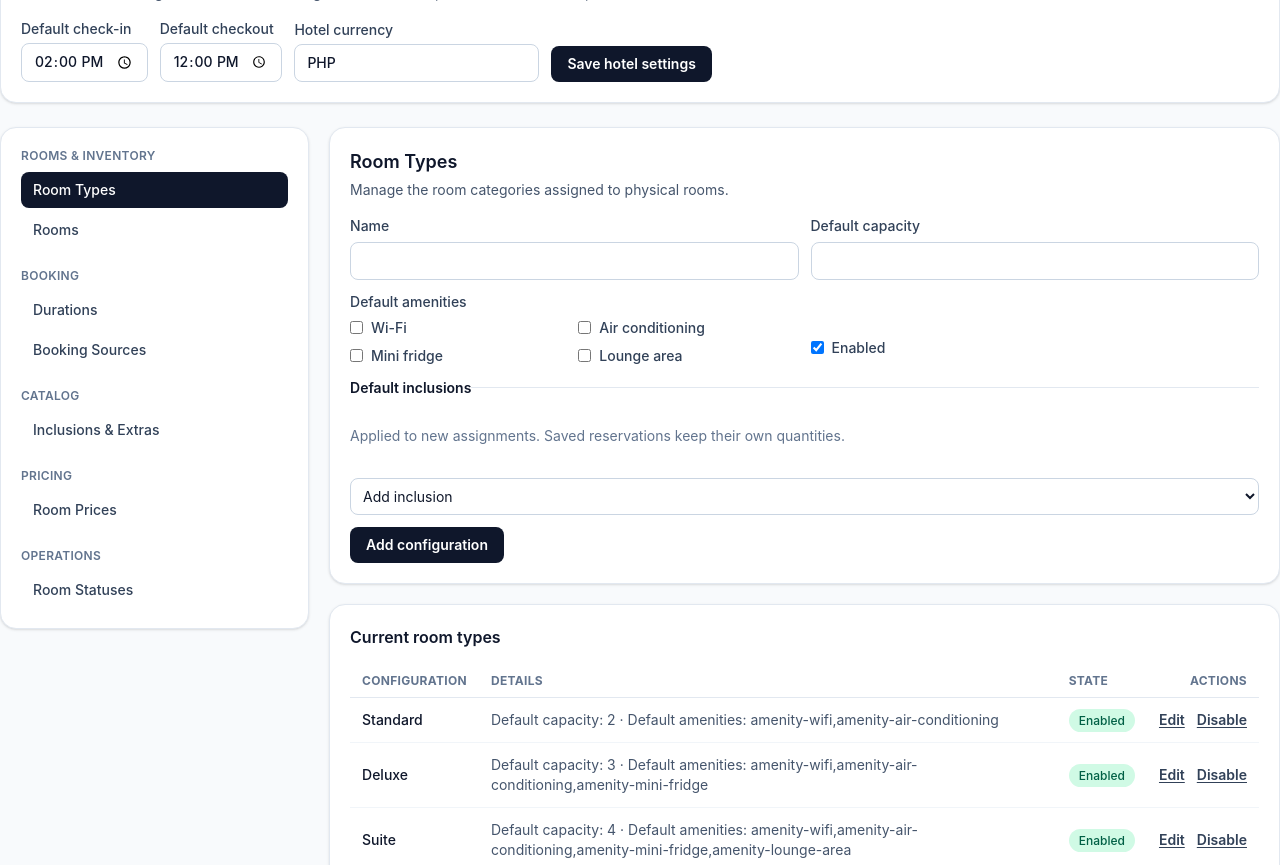
hotel configuration › edits configuration data in the shared in-memory provider
(page scrolled)
Click the button "Edit" in the row of "Standard": [1172, 720] box x1=1159 y1=710 x2=1185 y2=730
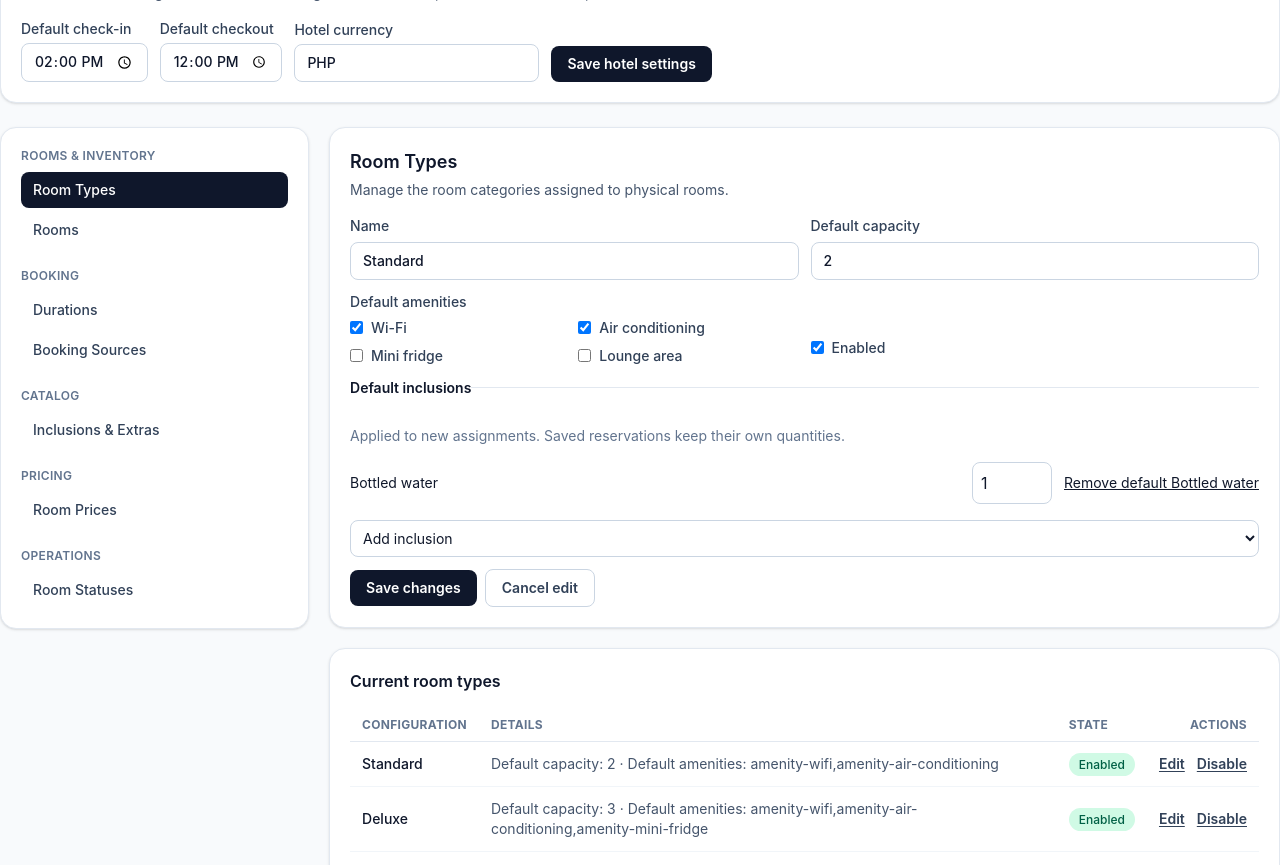
Replace the text in the field named "Name" with "Executive": [574, 261] box x1=350 y1=242 x2=798 y2=280
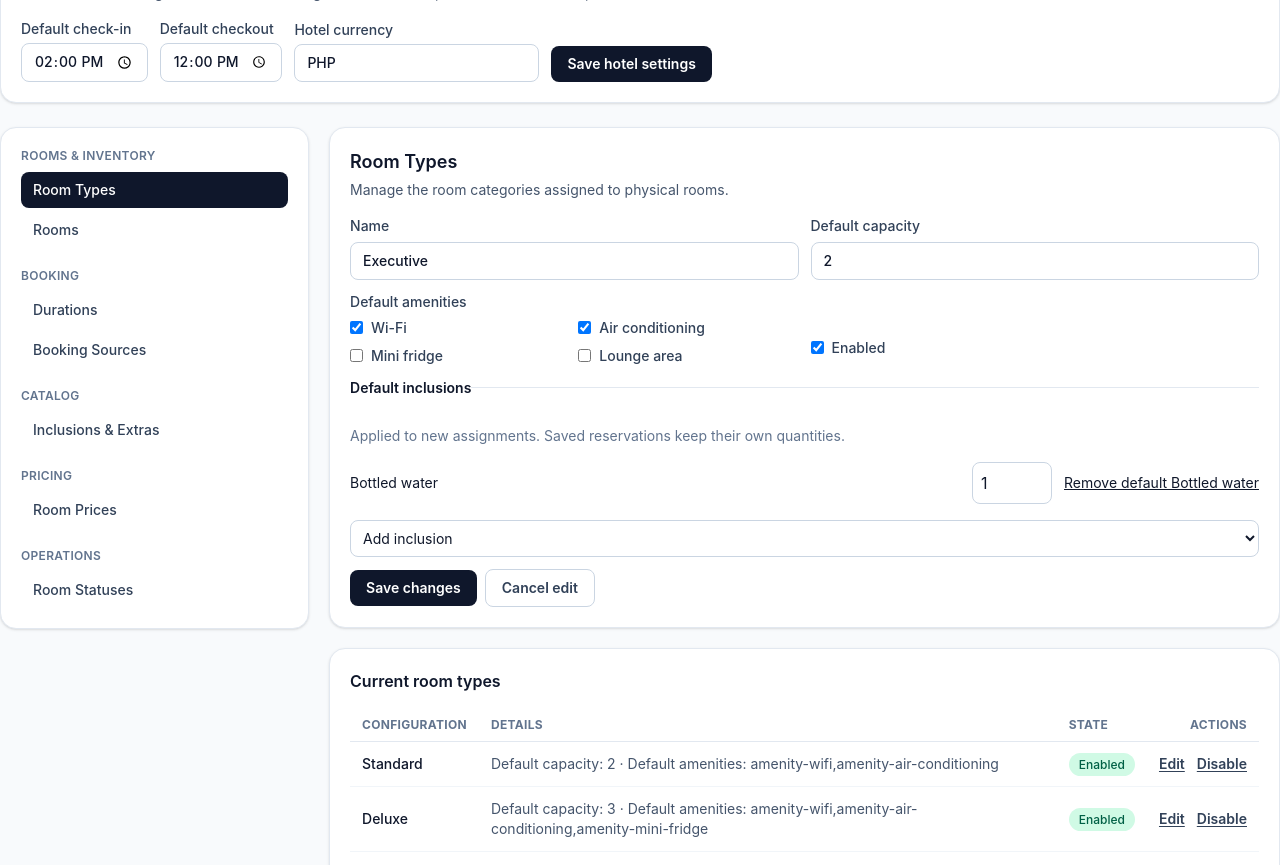
Click the button "Save changes": [413, 588] box x1=350 y1=570 x2=477 y2=606
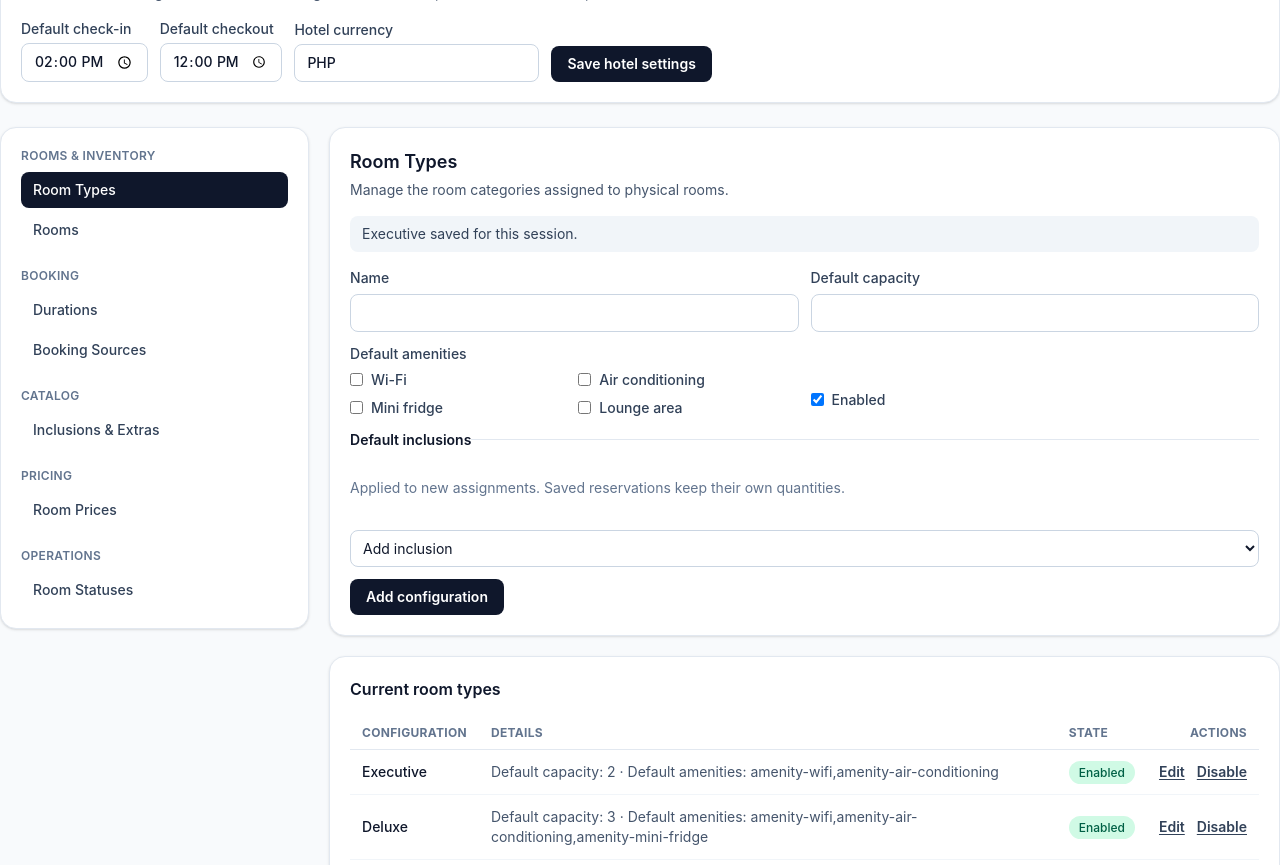
Result: the row "Executive" is shown at x1=350 y1=749 x2=1259 y2=794
Result: the cell "Standard" is gone
